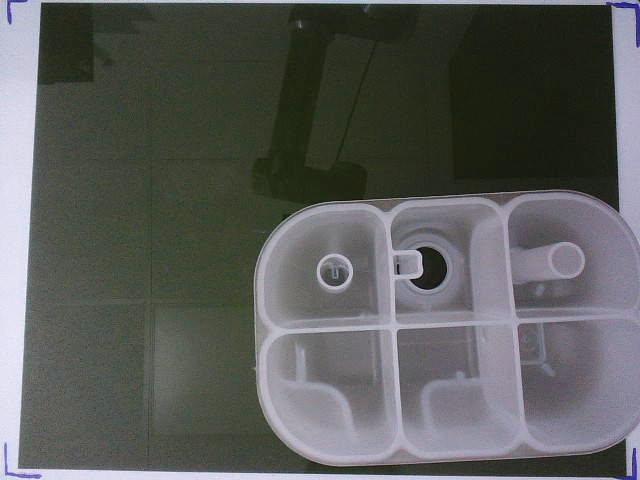reservoir_transparent_Under: (253, 188, 640, 467)
